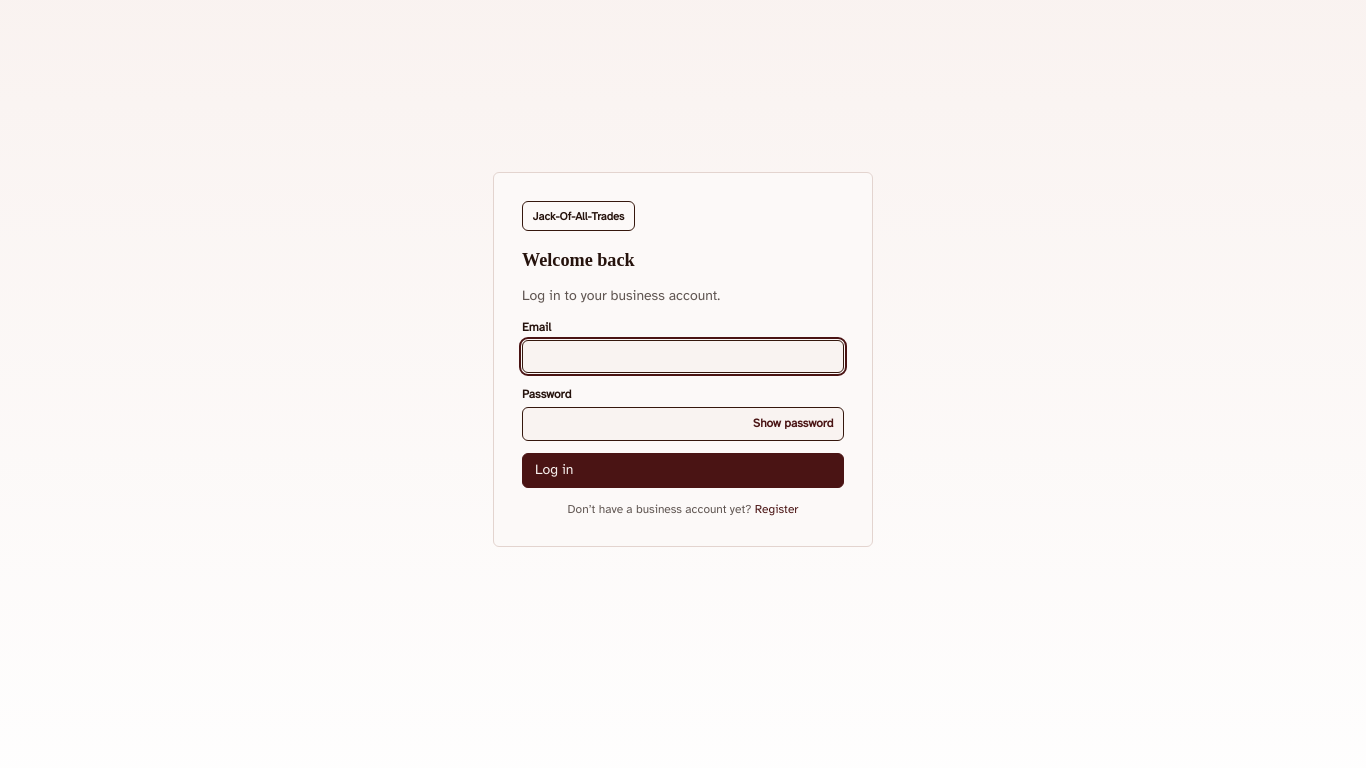
Test: authentication pages › shows a login error when the credentials are rejected
The image size is (1366, 768).
Type "owner@example.com" into the field labelled "Email" at (683,357), box [522, 340, 844, 373]
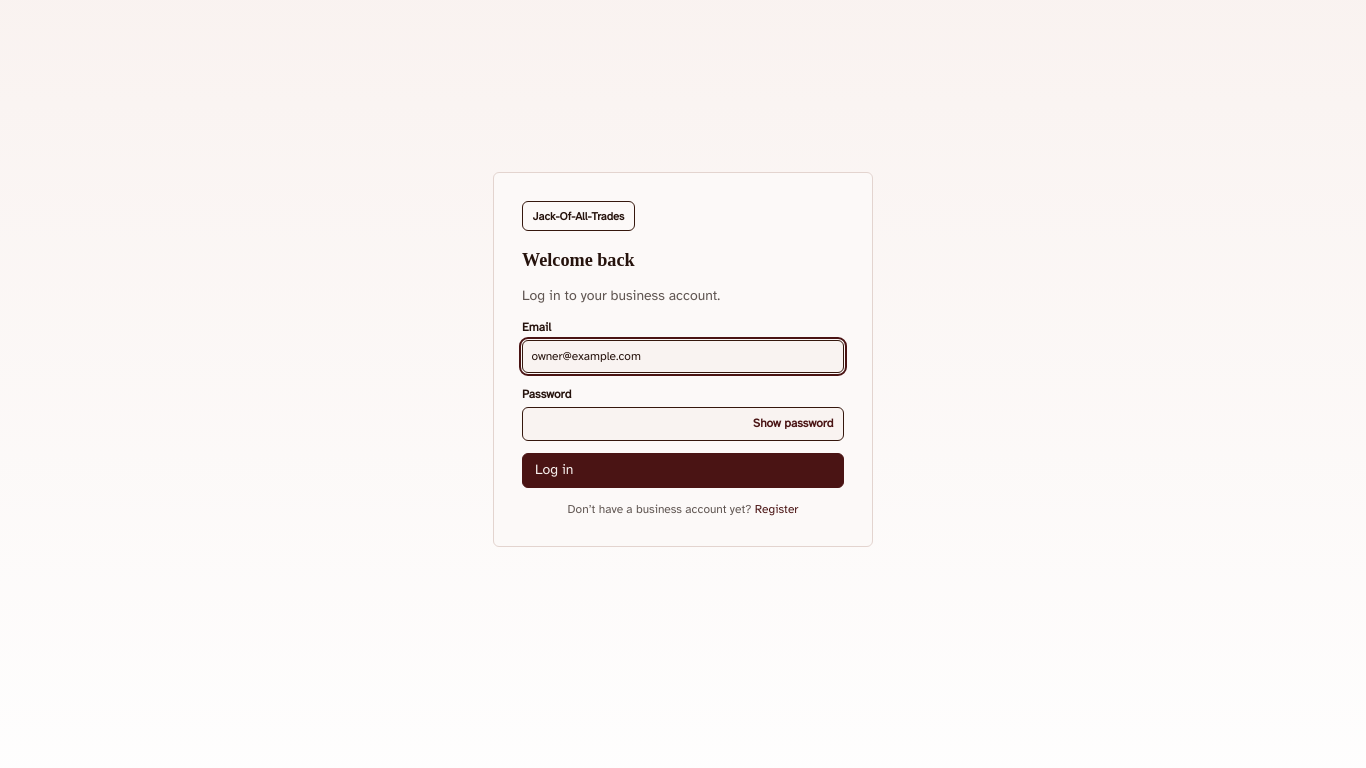
Type "wrong-password" into the password field labelled "Password" at (683,424), box [522, 407, 844, 440]
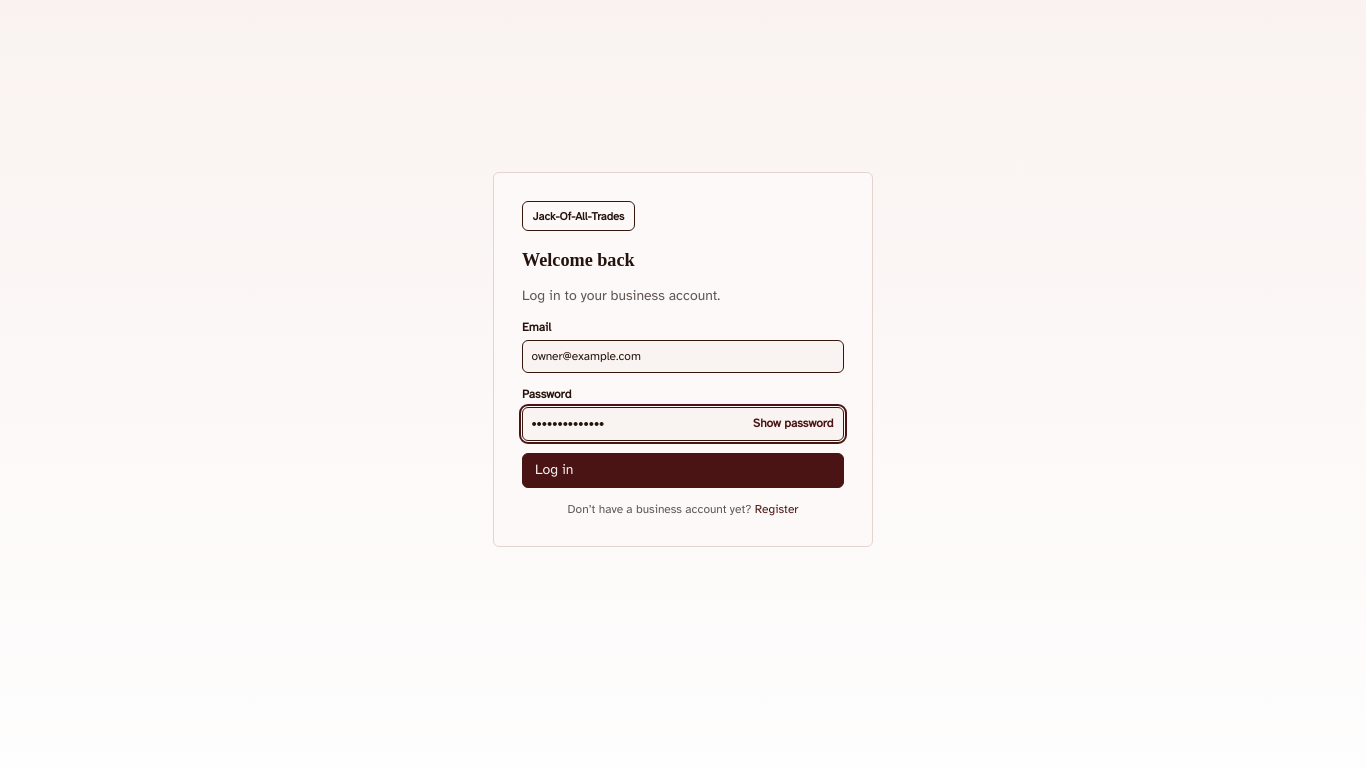
Click the button "Log in" at (554,470), box [522, 453, 844, 488]
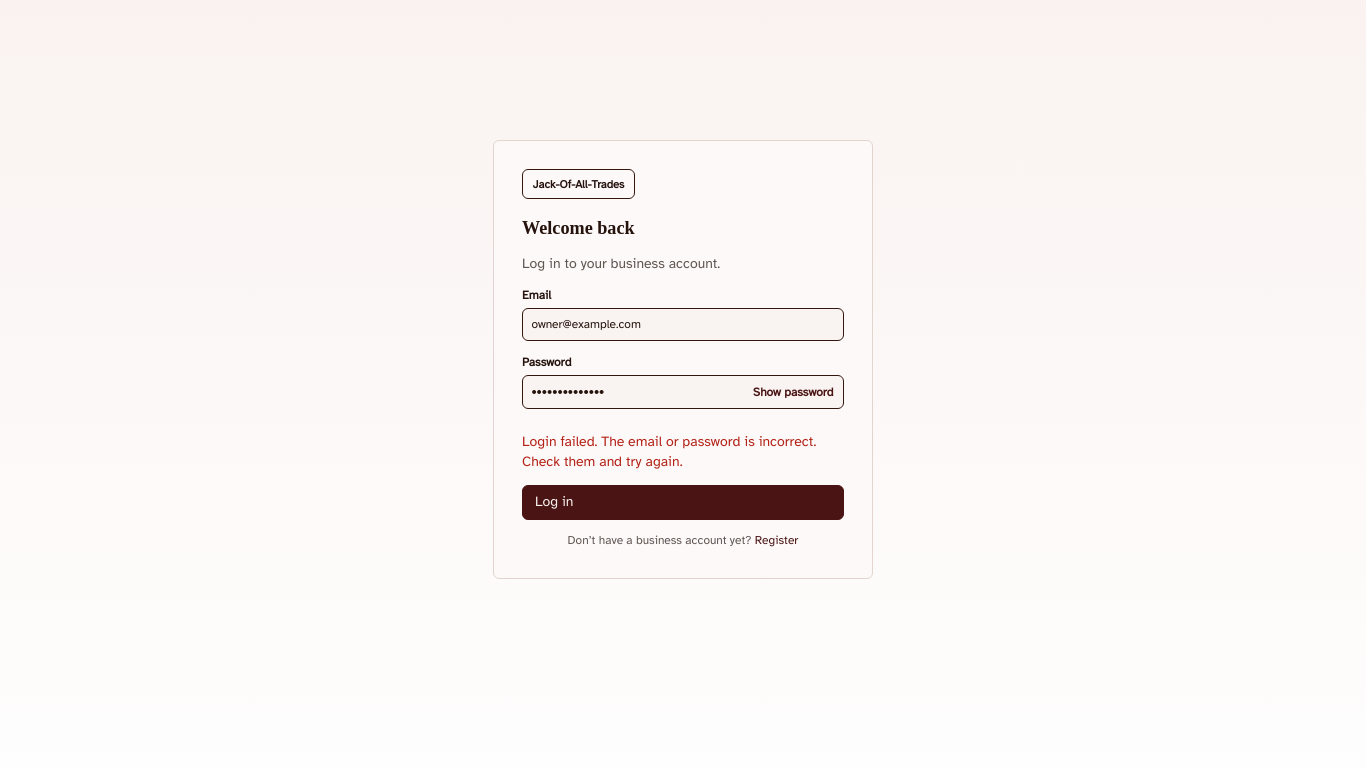
Expected: the text "Login failed. The email or password is incorrect. Check them and try again." is shown, [522, 432, 844, 472]
